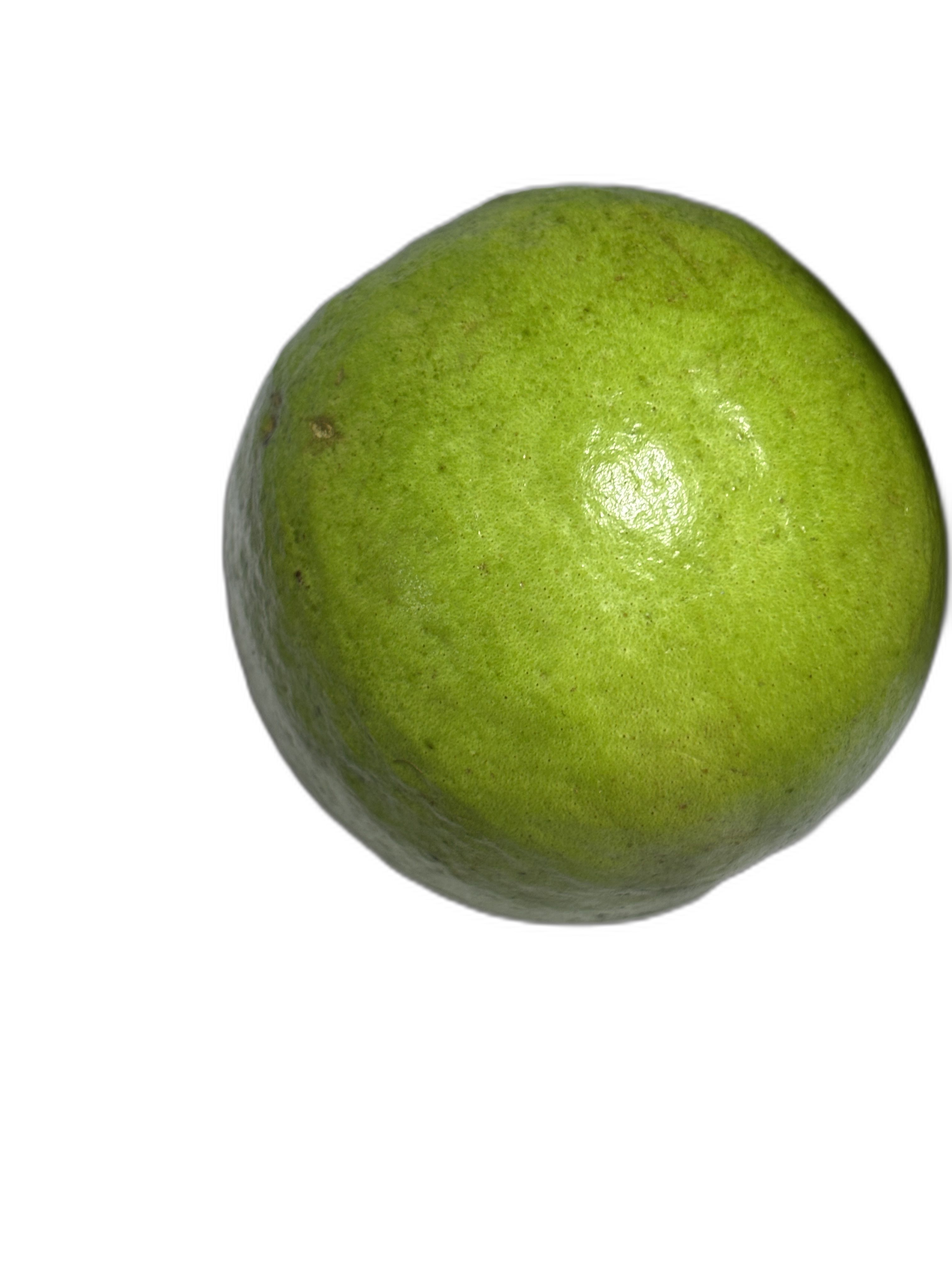guava: (109, 170, 744, 967)
